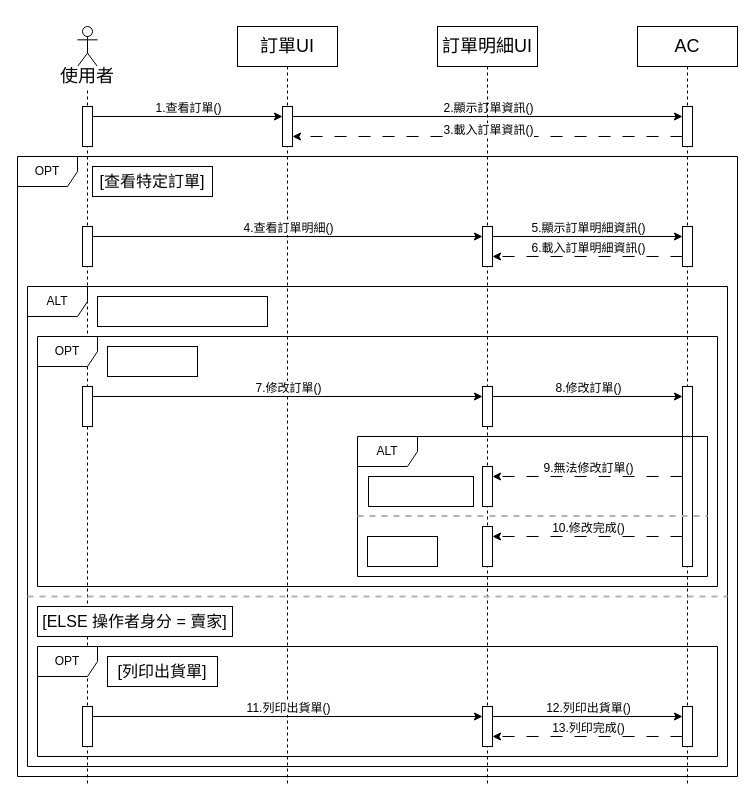
This 755x804 diagram has some shape labels left out. The shapes that lost their labels are listed below. From the top down, each one's centre as x and y in pixels, then its label:
(x=182, y=311): [IF 操作者身分 = 買家]
(x=152, y=361): [修改訂單]
(x=421, y=491): [IF 訂單鎖定]
(x=402, y=551): [ELSE]
